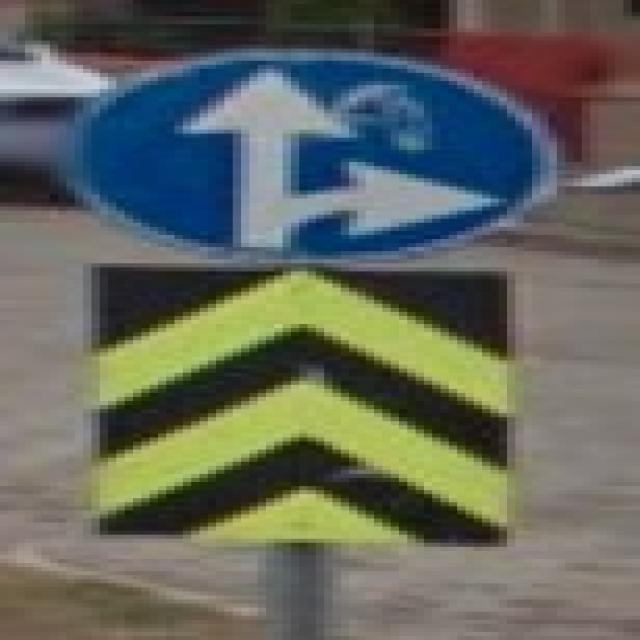Straight or Right: (59, 52, 558, 258)
